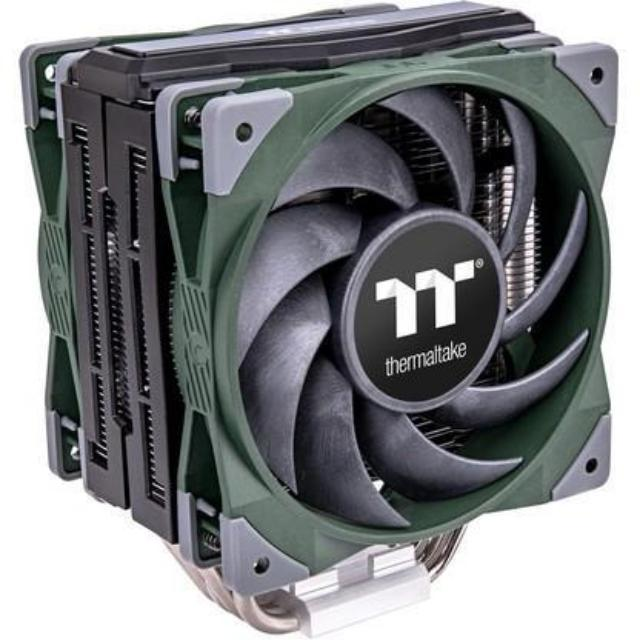CPU_Fan: (11, 4, 618, 636)
